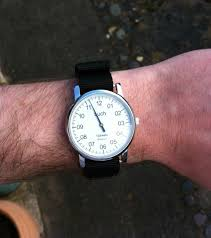clock: (70, 94, 133, 158)
